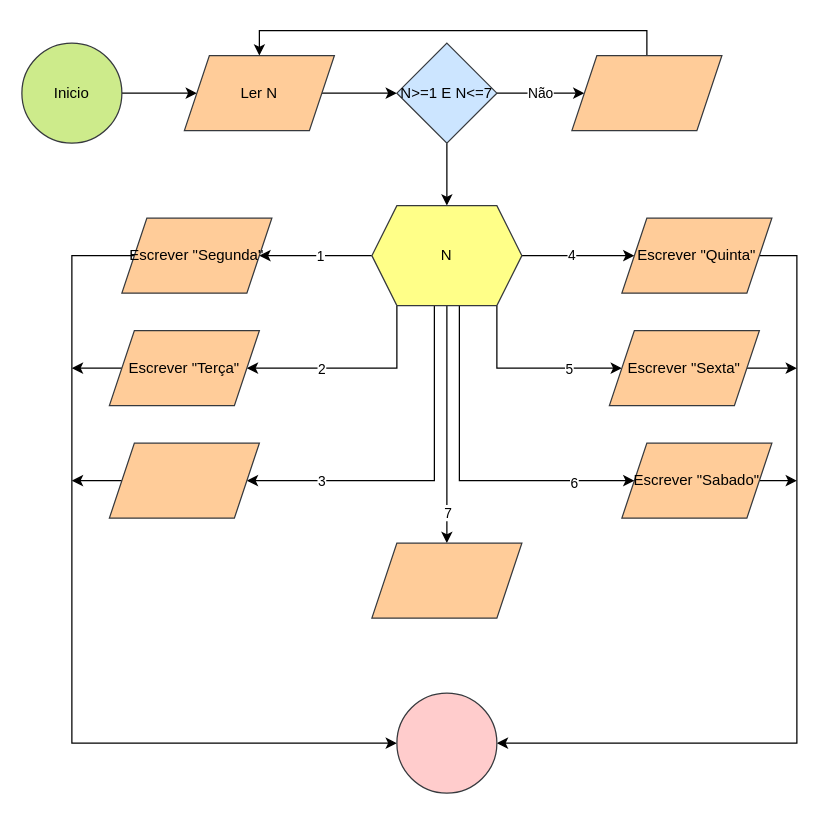
This 829x815 diagram has some shape labels left out. The centre of each missing label's shape, as x and y in pixels:
Escrever "Domingo": point (446, 580)
Escrever "O numero deve ser de 1 a 7, tente novamente": point (646, 92)
Escrever "Quarta": point (183, 480)
Fim: point (446, 742)
